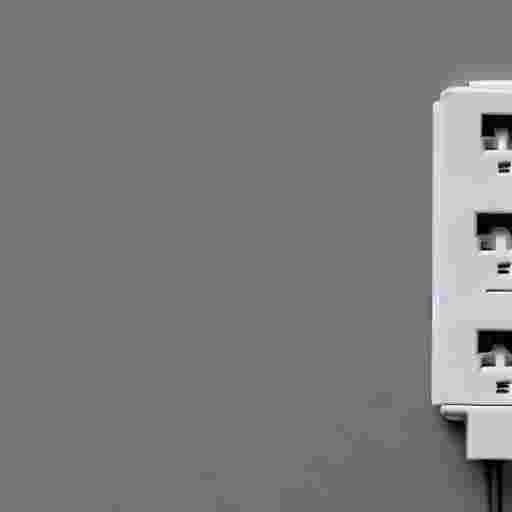power outlet: (431, 80, 511, 511)
